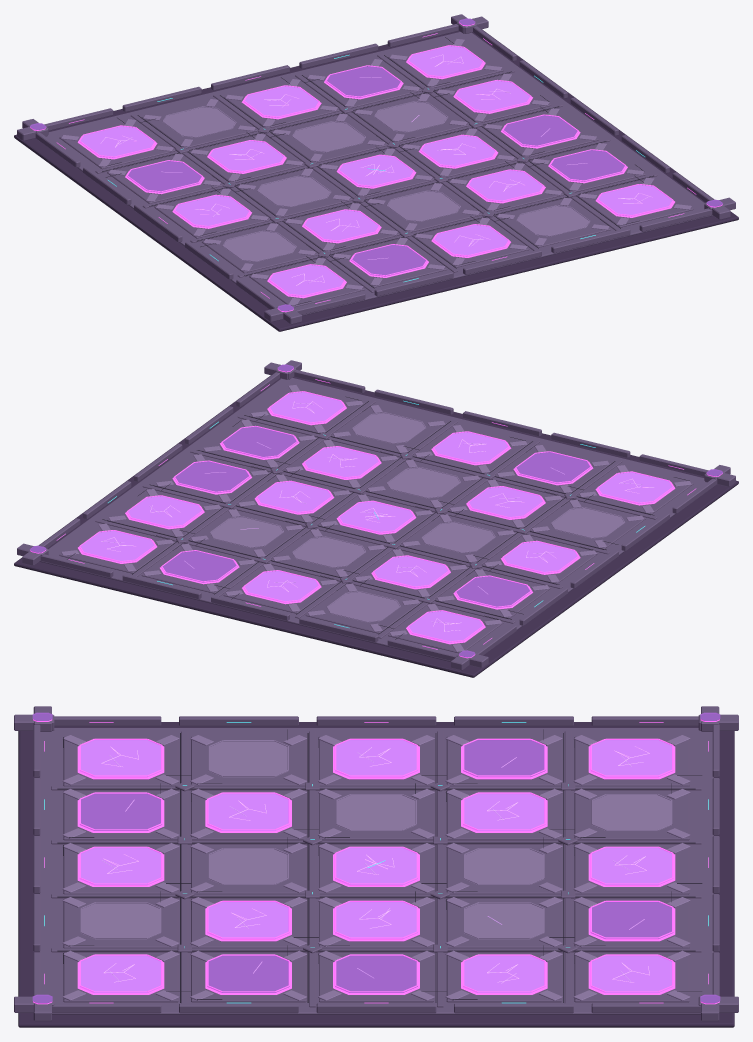
The model's file is sector_2_prism_rift_arena.glb.
The picture shows the model from 3 angles, top to bottom: view 1: azimuth 30°, elevation 25°; view 2: azimuth 150°, elevation 25°; view 3: azimuth 270°, elevation 25°; orthographic projection. The views are drawn at different scales.
Visible parts, largest first — view 1: Sector2HR3ContinuousBlackGunmetalFloorBed, Sector2HR3ReferenceDarkRiftUndertray, Sector2HR3ReferenceFloorBayR2C2_RaisedOctagonalPrismGlassFac, Sector2HR3ReferenceFloorBayR0C0_RaisedOctagonalPrismGlassFac, Sector2HR3ReferenceFloorBayR2C4_RaisedOctagonalPrismGlassFac, Sector2HR3ReferenceFloorBayR1C3_RaisedOctagonalPrismGlassFac, Sector2HR3ReferenceFloorBayR1C4_RaisedOctagonalPrismGlassFac, Sector2HR3ReferenceFloorBayR2C0_RaisedOctagonalPrismGlassFac, Sector2HR3ReferenceFloorBayR3C4_RaisedOctagonalPrismGlassFac, Sector2HR3ReferenceFloorBayR0C2_RaisedOctagonalPrismGlassFac, Sector2HR3ReferenceFloorBayR4C0_RaisedOctagonalPrismGlassFac, Sector2HR3ReferenceFloorBayR0C4_RaisedOctagonalPrismGlassFac (+58 smaller); view 2: Sector2HR3ContinuousBlackGunmetalFloorBed, Sector2HR3ReferenceDarkRiftUndertray, Sector2HR3ReferenceFloorBayR2C2_RaisedOctagonalPrismGlassFac, Sector2HR3ReferenceFloorBayR3C0_RaisedOctagonalPrismGlassFac, Sector2HR3ReferenceFloorBayR2C4_RaisedOctagonalPrismGlassFac, Sector2HR3ReferenceFloorBayR4C0_RaisedOctagonalPrismGlassFac, Sector2HR3ReferenceFloorBayR1C4_RaisedOctagonalPrismGlassFac, Sector2HR3ReferenceFloorBayR2C0_RaisedOctagonalPrismGlassFac, Sector2HR3ReferenceFloorBayR3C4_RaisedOctagonalPrismGlassFac, Sector2HR3ReferenceFloorBayR0C0_RaisedOctagonalPrismGlassFac, Sector2HR3ReferenceFloorBayR0C1_RaisedOctagonalPrismGlassFac, Sector2HR3ReferenceFloorBayR0C2_RaisedOctagonalPrismGlassFac (+58 smaller); view 3: Sector2HR3ContinuousBlackGunmetalFloorBed, Sector2HR3ReferenceDarkRiftUndertray, Sector2HR3ReferenceFloorBayR2C2_RaisedOctagonalPrismGlassFac, Sector2HR3ReferenceFloorBayR2C4_RaisedOctagonalPrismGlassFac, Sector2HR3ReferenceFloorBayR3C1_RaisedOctagonalPrismGlassFac, Sector2HR3ReferenceFloorBayR1C1_RaisedOctagonalPrismGlassFac, Sector2HR3ReferenceFloorBayR1C4_RaisedOctagonalPrismGlassFac, Sector2HR3ReferenceFloorBayR3C4_RaisedOctagonalPrismGlassFac, Sector2HR3ReferenceFloorBayR4C4_RaisedOctagonalPrismGlassFac, Sector2HR3ReferenceFloorBayR0C2_RaisedOctagonalPrismGlassFac, Sector2HR3ReferenceFloorBayR0C4_RaisedOctagonalPrismGlassFac, Sector2HR3ReferenceFloorBayR4C2_RaisedOctagonalPrismGlassFac (+62 smaller).
Boxes of the visible parts, box(x1,y1,x2,y2) form: Sector2HR3ContinuousBlackGunmetalFloorBed: box(46, 32, 713, 315); Sector2HR3ReferenceDarkRiftUndertray: box(14, 29, 738, 331); Sector2HR3ReferenceFloorBayR2C2_RaisedOctagonalPrismGlassFac: box(338, 155, 414, 187); Sector2HR3ReferenceFloorBayR0C0_RaisedOctagonalPrismGlassFac: box(269, 265, 344, 297); Sector2HR3ReferenceFloorBayR2C4_RaisedOctagonalPrismGlassFac: box(502, 115, 578, 147); Sector2HR3ReferenceFloorBayR1C3_RaisedOctagonalPrismGlassFac: box(468, 170, 543, 202); Sector2HR3ReferenceFloorBayR1C4_RaisedOctagonalPrismGlassFac: box(550, 150, 625, 182); Sector2HR3ReferenceFloorBayR2C0_RaisedOctagonalPrismGlassFac: box(174, 195, 250, 227); Sector2HR3ReferenceFloorBayR3C4_RaisedOctagonalPrismGlassFac: box(455, 80, 531, 112); Sector2HR3ReferenceFloorBayR0C2_RaisedOctagonalPrismGlassFac: box(433, 225, 509, 257); Sector2HR3ReferenceFloorBayR4C0_RaisedOctagonalPrismGlassFac: box(79, 126, 155, 158); Sector2HR3ReferenceFloorBayR0C4_RaisedOctagonalPrismGlassFac: box(597, 184, 673, 216); Sector2HR3ContinuousBlackGunmetalFloorBed: box(39, 378, 706, 661); Sector2HR3ReferenceDarkRiftUndertray: box(14, 375, 738, 677); Sector2HR3ReferenceFloorBayR2C2_RaisedOctagonalPrismGlassFac: box(338, 501, 414, 533); Sector2HR3ReferenceFloorBayR3C0_RaisedOctagonalPrismGlassFac: box(455, 576, 531, 608); Sector2HR3ReferenceFloorBayR2C4_RaisedOctagonalPrismGlassFac: box(174, 461, 250, 493); Sector2HR3ReferenceFloorBayR4C0_RaisedOctagonalPrismGlassFac: box(408, 611, 483, 643); Sector2HR3ReferenceFloorBayR1C4_RaisedOctagonalPrismGlassFac: box(221, 426, 297, 458); Sector2HR3ReferenceFloorBayR2C0_RaisedOctagonalPrismGlassFac: box(502, 541, 578, 573); Sector2HR3ReferenceFloorBayR3C4_RaisedOctagonalPrismGlassFac: box(127, 496, 202, 528); Sector2HR3ReferenceFloorBayR0C0_RaisedOctagonalPrismGlassFac: box(597, 472, 673, 504); Sector2HR3ReferenceFloorBayR0C1_RaisedOctagonalPrismGlassFac: box(515, 452, 591, 484); Sector2HR3ReferenceFloorBayR0C2_RaisedOctagonalPrismGlassFac: box(433, 432, 509, 464); Sector2HR3ContinuousBlackGunmetalFloorBed: box(39, 728, 713, 1014); Sector2HR3ReferenceDarkRiftUndertray: box(18, 722, 734, 1027); Sector2HR3ReferenceFloorBayR2C2_RaisedOctagonalPrismGlassFac: box(335, 847, 417, 885); Sector2HR3ReferenceFloorBayR2C4_RaisedOctagonalPrismGlassFac: box(335, 955, 417, 993); Sector2HR3ReferenceFloorBayR3C1_RaisedOctagonalPrismGlassFac: box(463, 793, 545, 831); Sector2HR3ReferenceFloorBayR1C1_RaisedOctagonalPrismGlassFac: box(207, 793, 289, 831); Sector2HR3ReferenceFloorBayR1C4_RaisedOctagonalPrismGlassFac: box(207, 955, 289, 993); Sector2HR3ReferenceFloorBayR3C4_RaisedOctagonalPrismGlassFac: box(463, 955, 545, 993); Sector2HR3ReferenceFloorBayR4C4_RaisedOctagonalPrismGlassFac: box(590, 955, 673, 993); Sector2HR3ReferenceFloorBayR0C2_RaisedOctagonalPrismGlassFac: box(79, 847, 162, 885); Sector2HR3ReferenceFloorBayR0C4_RaisedOctagonalPrismGlassFac: box(79, 955, 162, 993); Sector2HR3ReferenceFloorBayR4C2_RaisedOctagonalPrismGlassFac: box(590, 847, 673, 885).
Bounding box in the file's own units: 59.3 × 1.74 × 59.3.
